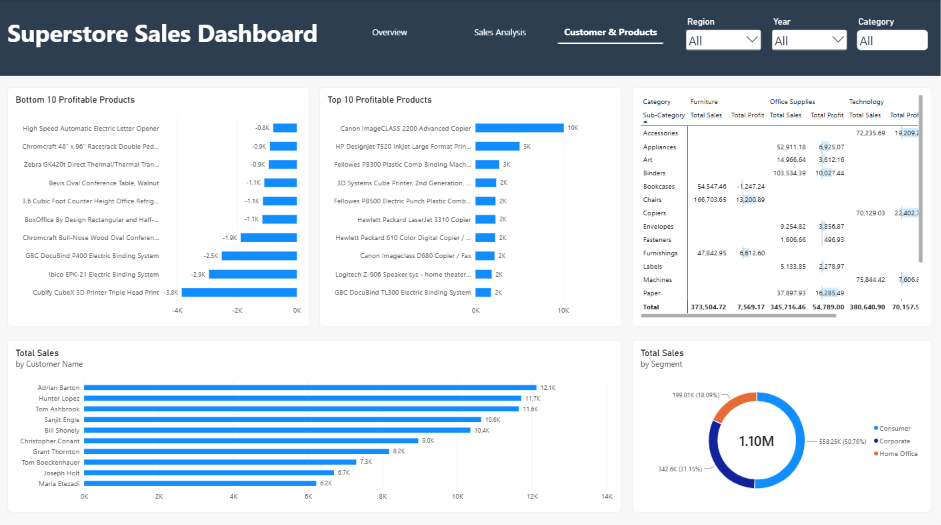

This screenshot's page, from the dashboard's own definition file:
{"tool":"powerbi","page":{"name":"Customer & Products","canvas":[1920,1080],"ordinal":2},"visuals":[{"type":"shape","box":[0,0,1919.3,155.3],"z":0},{"type":"textbox","box":[17,34,665.5,77.2],"z":1000},{"type":"clusteredBarChart","fields":{"Category":["DimCustomer.Customer Name"],"Y":["FactSales.Total Sales"]},"box":[17,691.7,1244.4,348.7],"z":2000},{"type":"donutChart","fields":{"Category":["DimCustomer.Segment"],"Y":["FactSales.Total Sales"]},"box":[1284.1,691.7,598.1,348.7],"z":3000},{"type":"clusteredBarChart","title":"Top 10 Profitable Products","fields":{"Category":["DimProduct.Product Name"],"Y":["FactSales.Total Profit"]},"box":[649.1,178.6,612.3,484.7],"z":4000},{"type":"clusteredBarChart","title":"Bottom 10 Profitable Products","fields":{"Category":["DimProduct.Product Name"],"Y":["FactSales.Total Profit"]},"box":[17,178.6,612.3,484.7],"z":5000},{"type":"pivotTable","fields":{"Columns":["DimProduct.Category"],"Rows":["DimProduct.Sub-Category"],"Values":["FactSales.Total Sales","FactSales.Total Profit"]},"box":[1284.1,178.6,606.6,484.7],"z":6000},{"type":"slicer","fields":{"Values":["DimDate.Year"]},"box":[1560.6,33.9,162.1,82.9],"z":7000},{"type":"slicer","fields":{"Values":["DimCustomer.Region"]},"box":[1387.2,33.9,162.1,82.9],"z":8000},{"type":"slicer","fields":{"Values":["DimProduct.Category"]},"box":[1734,33.9,154.6,86.7],"z":9000},{"type":"pageNavigator","box":[683.2,42.5,666.1,48.2],"z":10000}]}

Visuals, with their boxes in screenshot pixels (x1, y1, x2, y2), scaled from the page's 1920x1080 canvas onto the 941x525 screenshot:
shape: {"x1": 0, "y1": 0, "x2": 940, "y2": 75}
textbox: {"x1": 8, "y1": 17, "x2": 334, "y2": 54}
clusteredBarChart - DimCustomer.Customer Name x FactSales.Total Sales: {"x1": 8, "y1": 336, "x2": 618, "y2": 506}
donutChart - DimCustomer.Segment x FactSales.Total Sales: {"x1": 629, "y1": 336, "x2": 922, "y2": 506}
"Top 10 Profitable Products" clusteredBarChart: {"x1": 318, "y1": 87, "x2": 618, "y2": 322}
"Bottom 10 Profitable Products" clusteredBarChart: {"x1": 8, "y1": 87, "x2": 308, "y2": 322}
pivotTable - DimProduct.Category x DimProduct.Sub-Category: {"x1": 629, "y1": 87, "x2": 927, "y2": 322}
slicer - DimDate.Year: {"x1": 765, "y1": 16, "x2": 844, "y2": 57}
slicer - DimCustomer.Region: {"x1": 680, "y1": 16, "x2": 759, "y2": 57}
slicer - DimProduct.Category: {"x1": 850, "y1": 16, "x2": 926, "y2": 59}
pageNavigator: {"x1": 335, "y1": 21, "x2": 661, "y2": 44}
